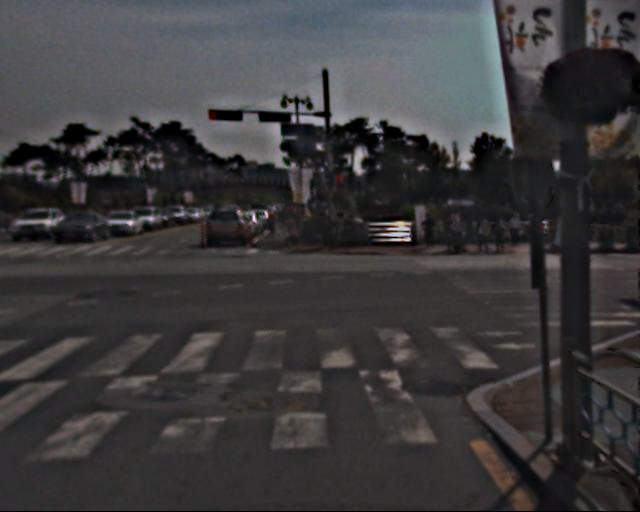person: (447, 206, 479, 252), (270, 203, 307, 240), (319, 208, 337, 253), (492, 211, 510, 255), (476, 214, 493, 256), (423, 212, 438, 248), (511, 211, 525, 245)
